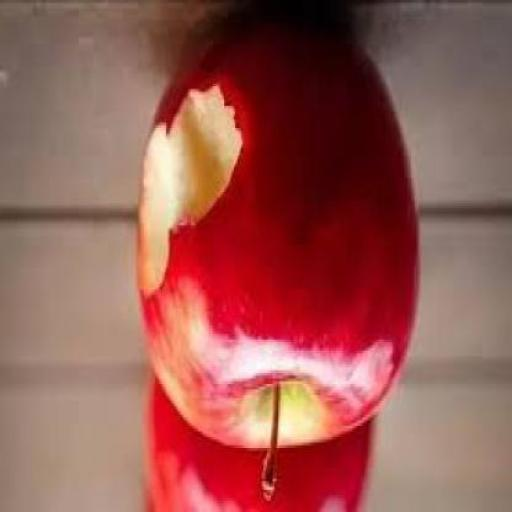biodegradable: (140, 16, 422, 454), (145, 367, 374, 511)
